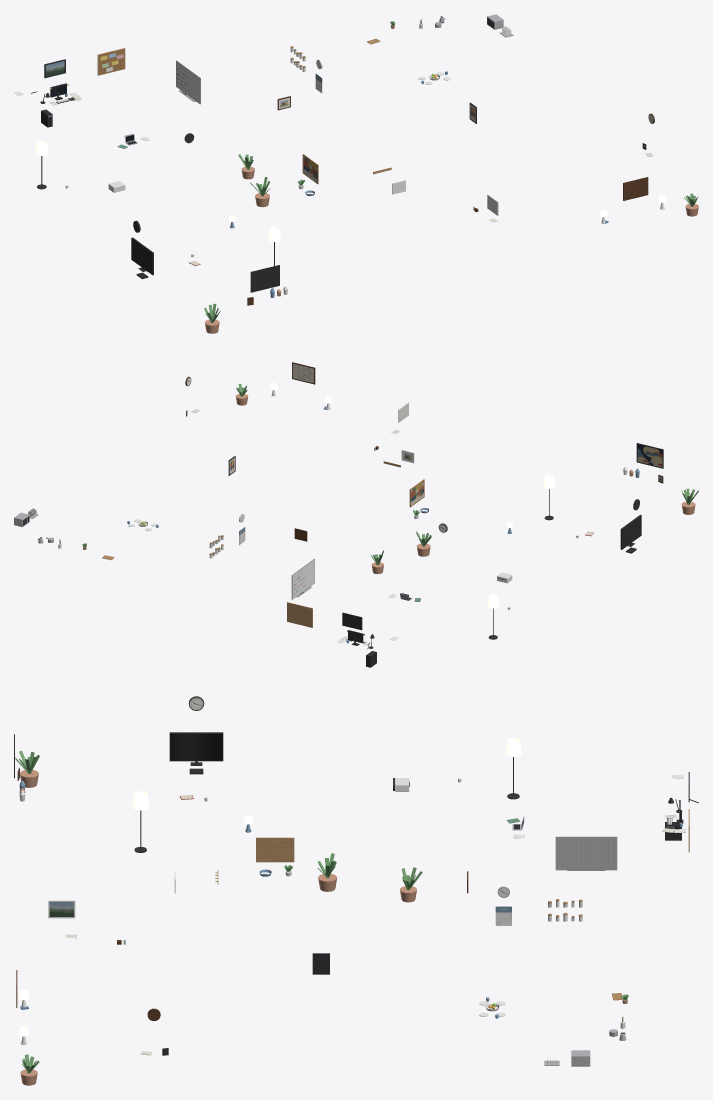
The model's file is Level2_House_Decor.fbx.
3 views of the same model, one above another, from view 1: azimuth 30°, elevation 25°; view 2: azimuth 150°, elevation 25°; view 3: azimuth 270°, elevation 25° (orthographic). The views are drawn at different scales.
Parts seen in each view (by area): view 1: STU_Whiteboard, LIV_Painting_Modern, STU_Corkboard, LIV_Television; view 2: STU_Whiteboard, LIV_Painting_Modern, STU_Corkboard, LIV_Television; view 3: STU_Whiteboard, LIV_Television, LIV_Painting_Abstract.
Part boxes in pixels (x1,y1,x2,y2): STU_Whiteboard: [176, 60, 200, 104]; LIV_Painting_Modern: [250, 265, 279, 292]; STU_Corkboard: [97, 48, 125, 75]; LIV_Television: [131, 237, 153, 275]; STU_Whiteboard: [291, 558, 314, 599]; LIV_Painting_Modern: [636, 443, 663, 468]; STU_Corkboard: [287, 602, 312, 627]; LIV_Television: [620, 514, 641, 549]; STU_Whiteboard: [555, 836, 617, 870]; LIV_Television: [169, 732, 223, 765]; LIV_Painting_Abstract: [256, 837, 294, 862].
Bounding box in the file's own units: 19.68 × 2.35 × 17.82.
